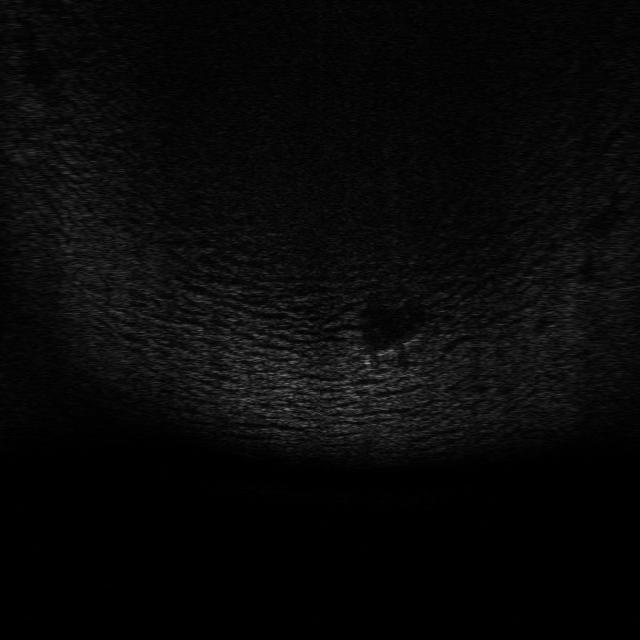plane: (361, 328, 428, 370)
